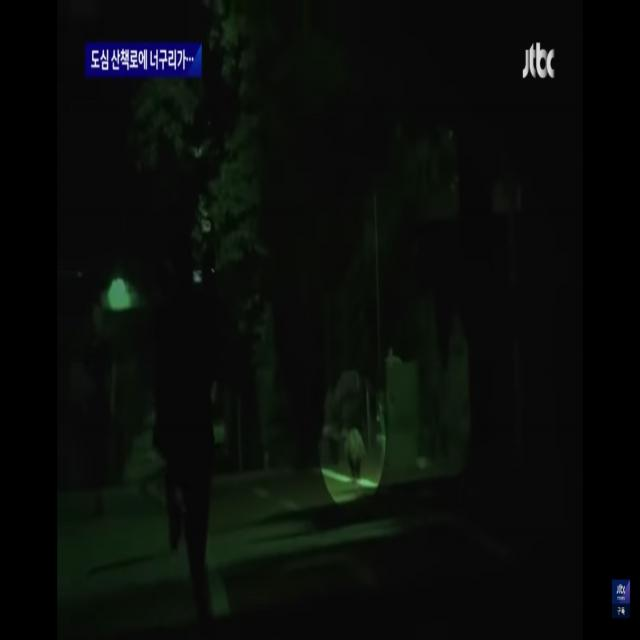racoon: (345, 420, 367, 490)
